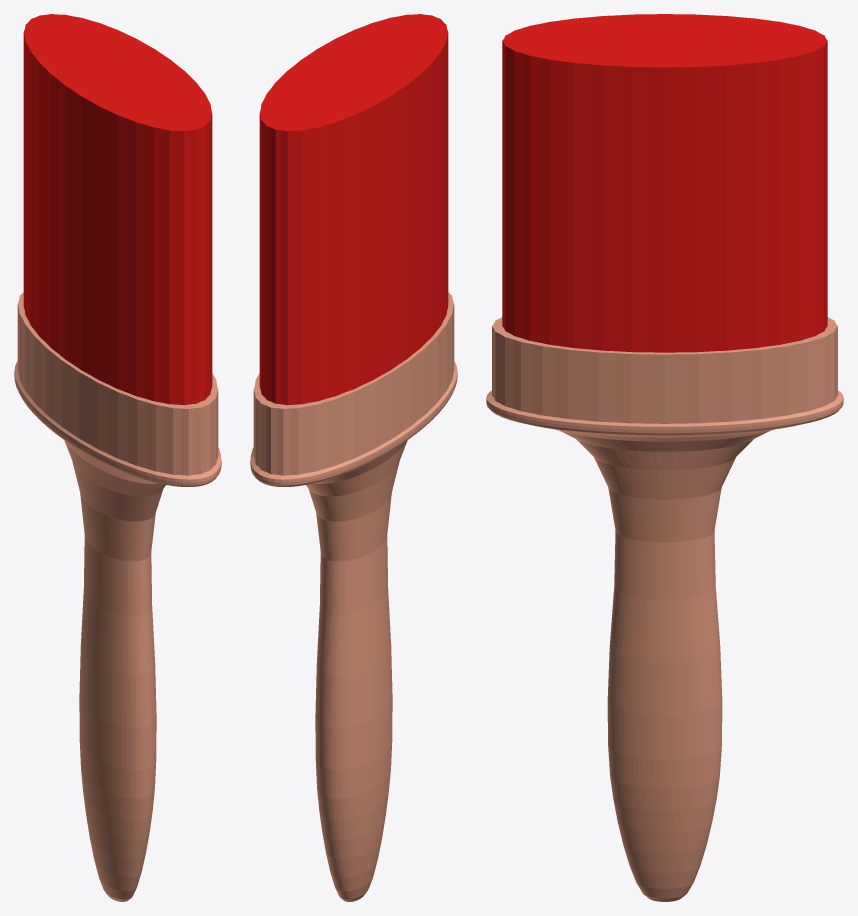
Rendered from bcpaint.fbx.
3 renders of one model, left to right at view 1: azimuth 30°, elevation 25°; view 2: azimuth 150°, elevation 25°; view 3: azimuth 270°, elevation 25°, orthographic. The views are drawn at different scales.
Parts seen in each view (by area): view 1: Cylinder; view 2: Cylinder; view 3: Cylinder.
Boxes of the visible parts, <box> form: Cylinder: <box>14,14,221,901</box>; Cylinder: <box>250,14,457,901</box>; Cylinder: <box>486,14,843,901</box>.
Bounding box in the file's own units: 59.52 × 405 × 152.
